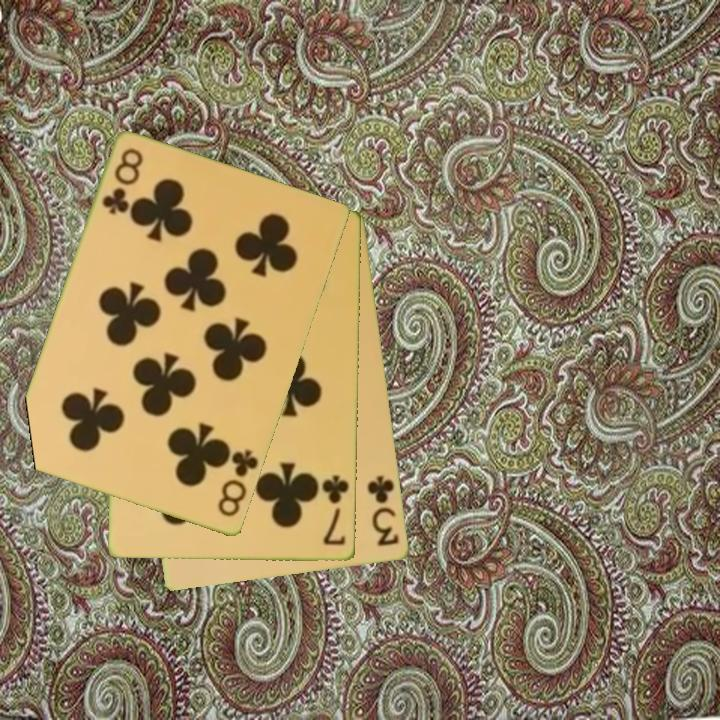3c: (364, 472, 402, 550)
7c: (319, 472, 352, 549)
8c: (98, 145, 147, 218), (214, 446, 261, 521)
